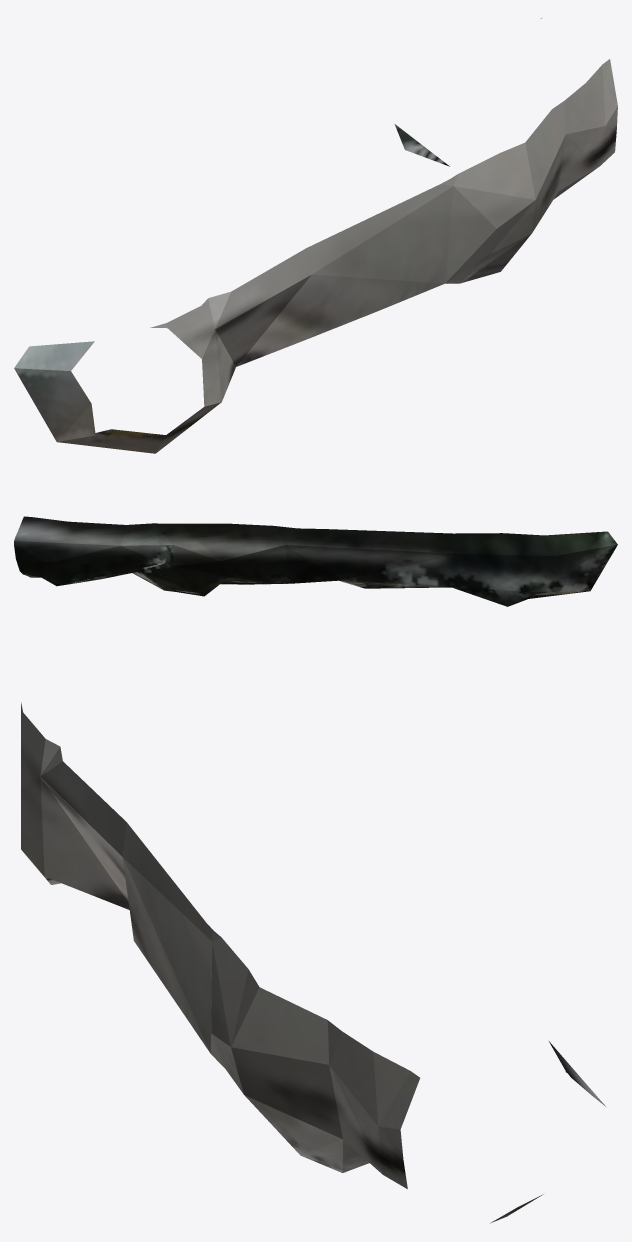
3 renders of one model, top to bottom at view 1: azimuth 30°, elevation 25°; view 2: azimuth 150°, elevation 25°; view 3: azimuth 270°, elevation 25°, orthographic. The views are drawn at different scales.
Size of the model in its own units: 0.5558 by 0.108 by 0.3065.
Materials: 1 (1 with a texture image).
